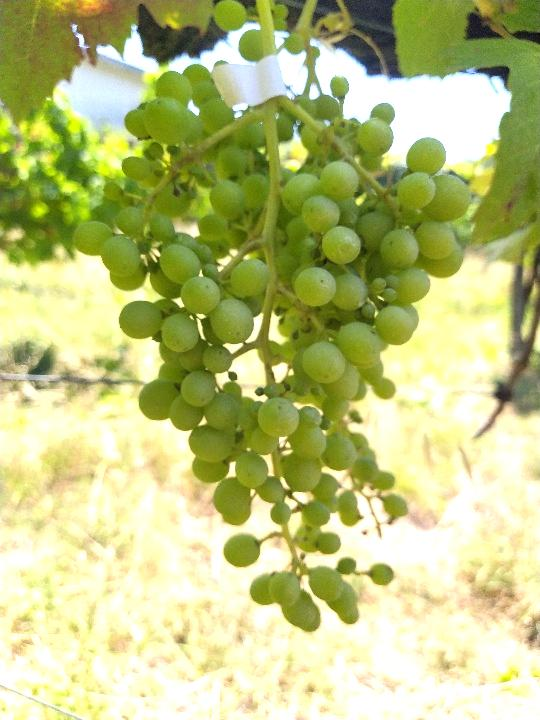grape: (69, 50, 477, 634)
